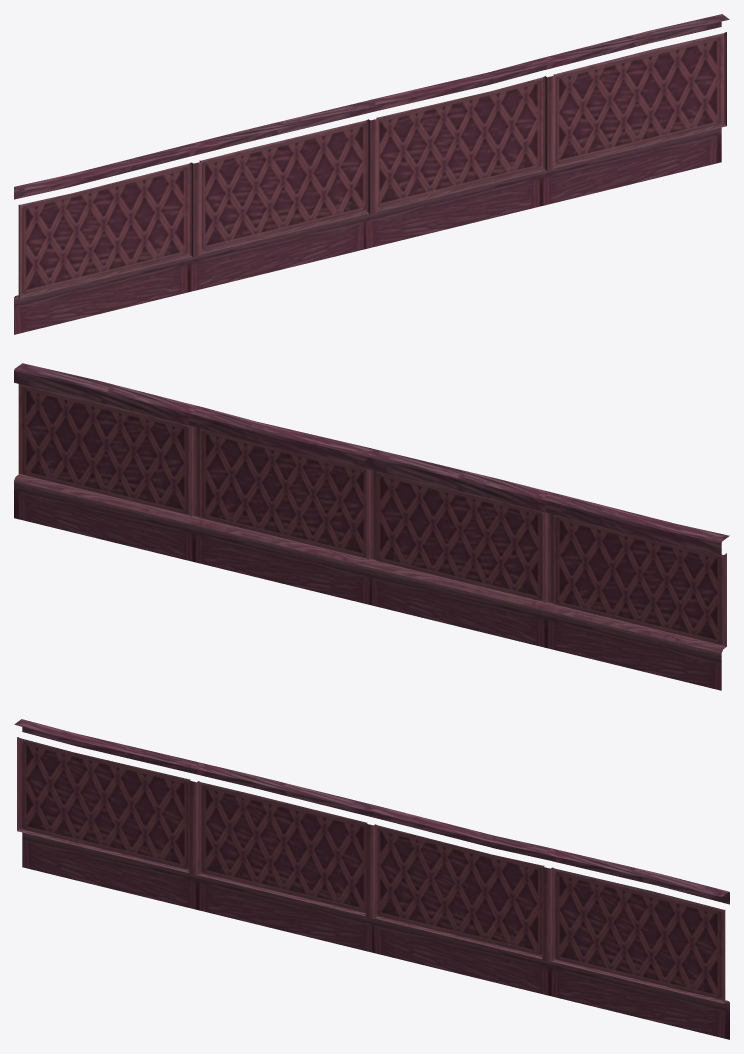
Rendered from MOD_WallSkirting_Block.fbx.
The picture shows the model from 3 angles, top to bottom: view 1: azimuth 30°, elevation 25°; view 2: azimuth 150°, elevation 25°; view 3: azimuth 330°, elevation 25°; orthographic projection.
Parts seen in each view (by area): view 1: MOD_WallSkirting; view 2: MOD_WallSkirting; view 3: MOD_WallSkirting.
Boxes of the visible parts, box(x1,y1,x2,y2) form: MOD_WallSkirting: box(14, 14, 729, 334); MOD_WallSkirting: box(14, 363, 729, 690); MOD_WallSkirting: box(14, 719, 729, 1039).
Bounding box in the file's own units: 400 × 80.99 × 8.23.
Materials: 1 (1 with a texture image).
